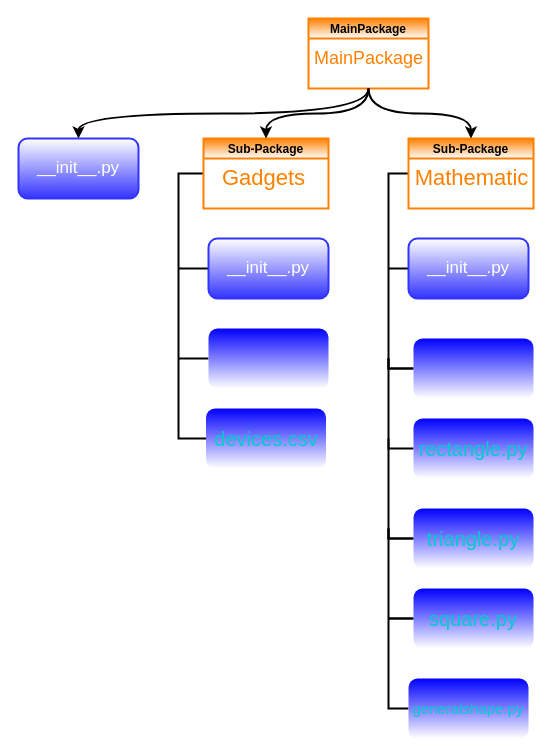
This 553x755 diagram has some shape labels left out. The box of each missing label's shape, as (x1, y1, x2, y2) in pixels:
circle.py: (413, 338, 533, 398)
devices.py: (208, 328, 328, 388)
